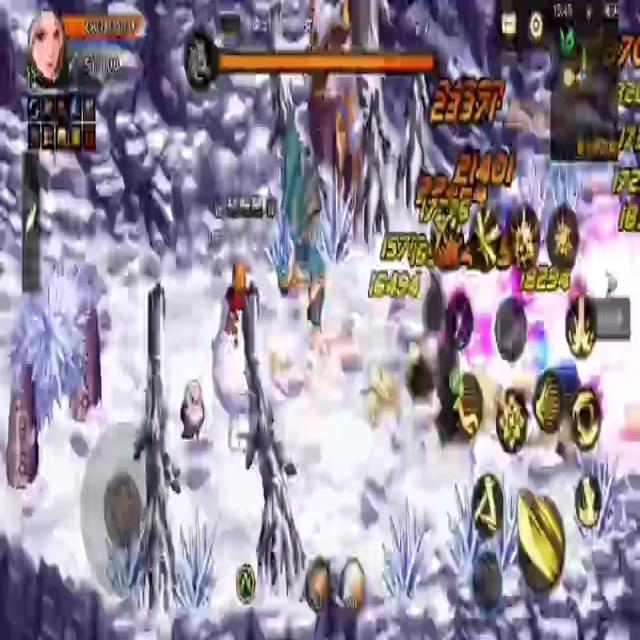player: (212, 242, 260, 454)
